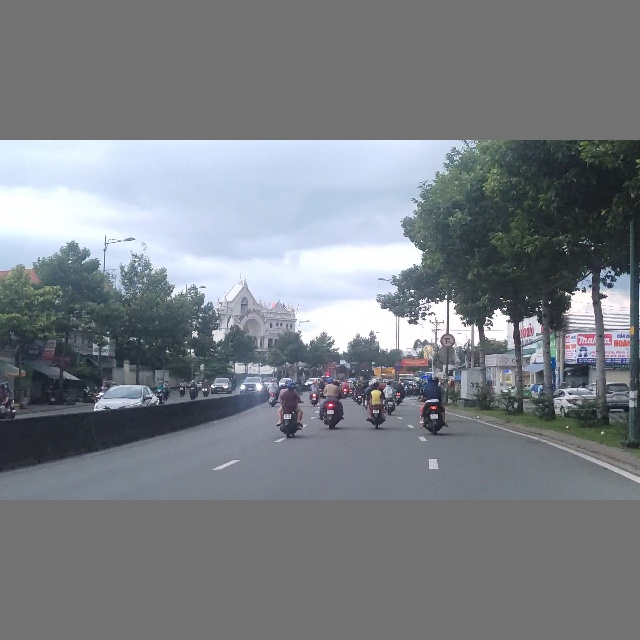P.123b: (441, 334, 455, 347)
